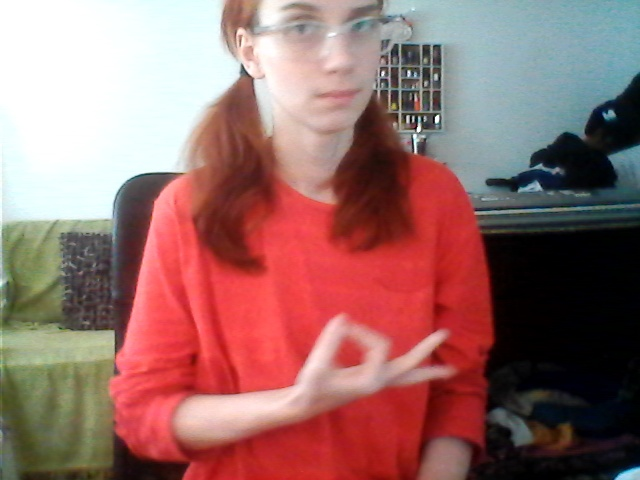co: (292, 311, 465, 411)
